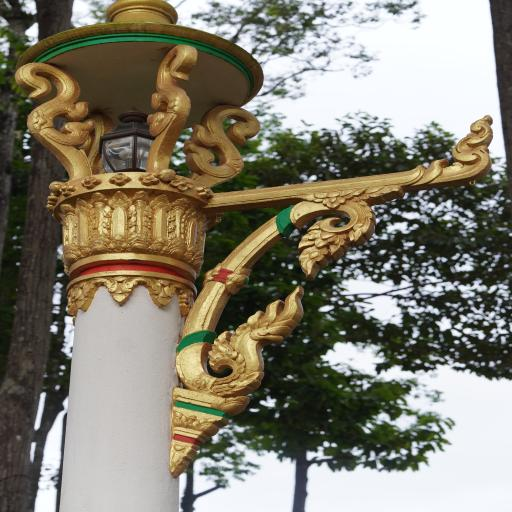ran: (169, 269, 323, 412)
